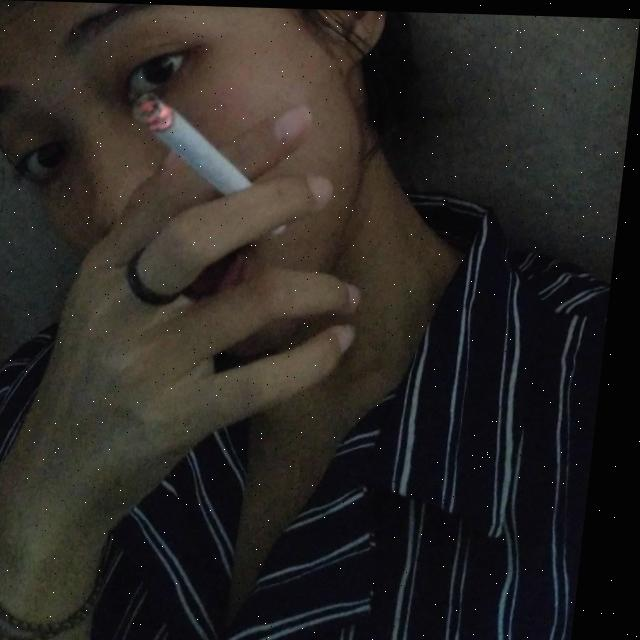cigarette: (127, 89, 264, 196)
